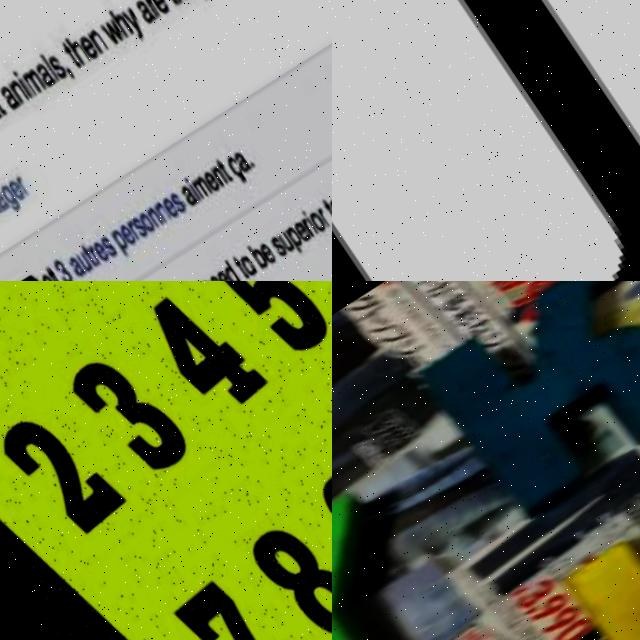2: (0, 377, 143, 569)
3: (52, 321, 207, 498), (48, 249, 75, 281)
4: (97, 281, 287, 454)
5: (177, 281, 332, 389)
7: (141, 523, 331, 640)
8: (217, 476, 332, 640)
9: (285, 410, 332, 622)
K: (414, 281, 640, 530)
N: (332, 0, 640, 281)
Y: (332, 480, 453, 640)
